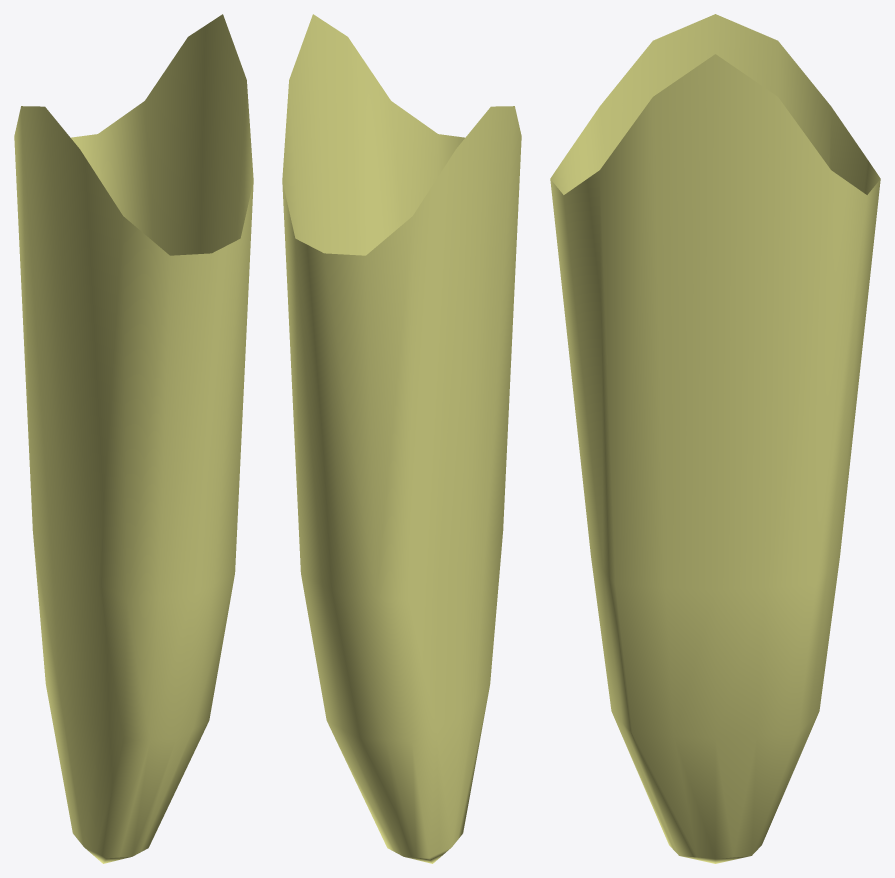
File: D41R_Raiz.obj
The picture shows the model from 3 angles, left to right: view 1: azimuth 30°, elevation 25°; view 2: azimuth 150°, elevation 25°; view 3: azimuth 270°, elevation 25°; orthographic projection. The views are drawn at different scales.
Visible parts, largest first — view 1: D41R_Raiz; view 2: D41R_Raiz; view 3: D41R_Raiz.
Part boxes in pixels (<box>): D41R_Raiz: <box>14,14,253,863</box>; D41R_Raiz: <box>282,14,521,863</box>; D41R_Raiz: <box>550,14,880,863</box>.
Size of the model in its own units: 3.51 by 15.45 by 5.31.
